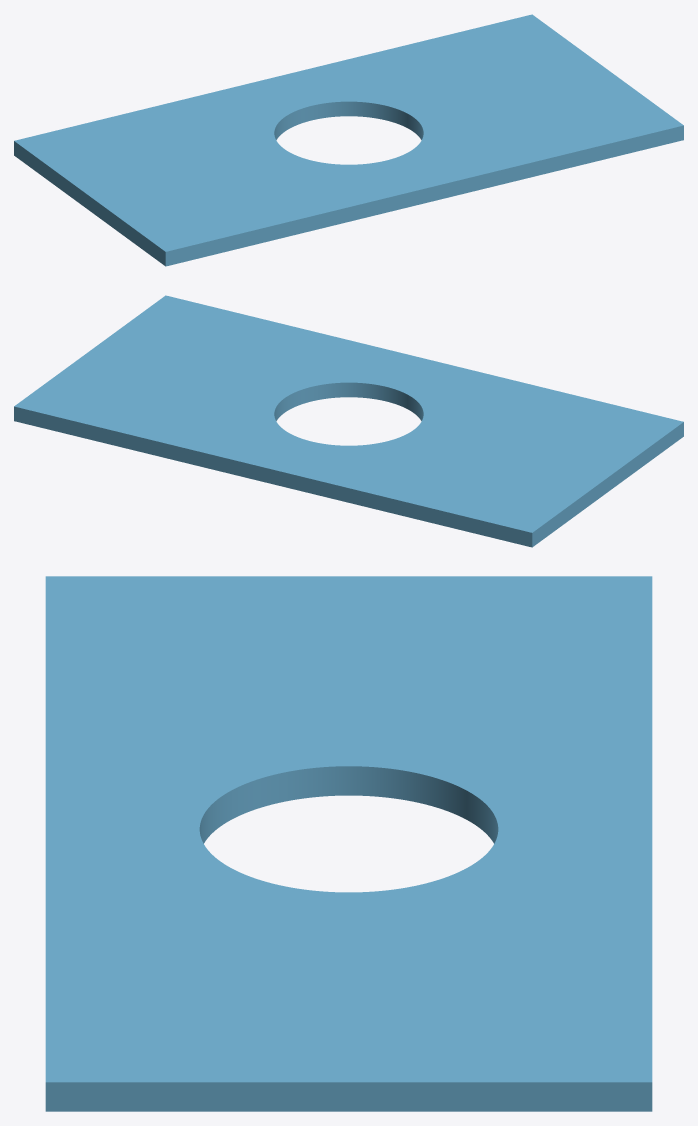
3 renders of one model, top to bottom at view 1: azimuth 30°, elevation 25°; view 2: azimuth 150°, elevation 25°; view 3: azimuth 270°, elevation 25°, orthographic. The views are drawn at different scales.
Visible parts, largest first — view 1: G21_body; view 2: G21_body; view 3: G21_body.
Boxes of the visible parts, <box> form: G21_body: <box>14,14,683,266</box>; G21_body: <box>14,295,683,547</box>; G21_body: <box>45,576,652,1111</box>.
Bounding box in the file's own units: 97 × 2.62 × 49.19.
